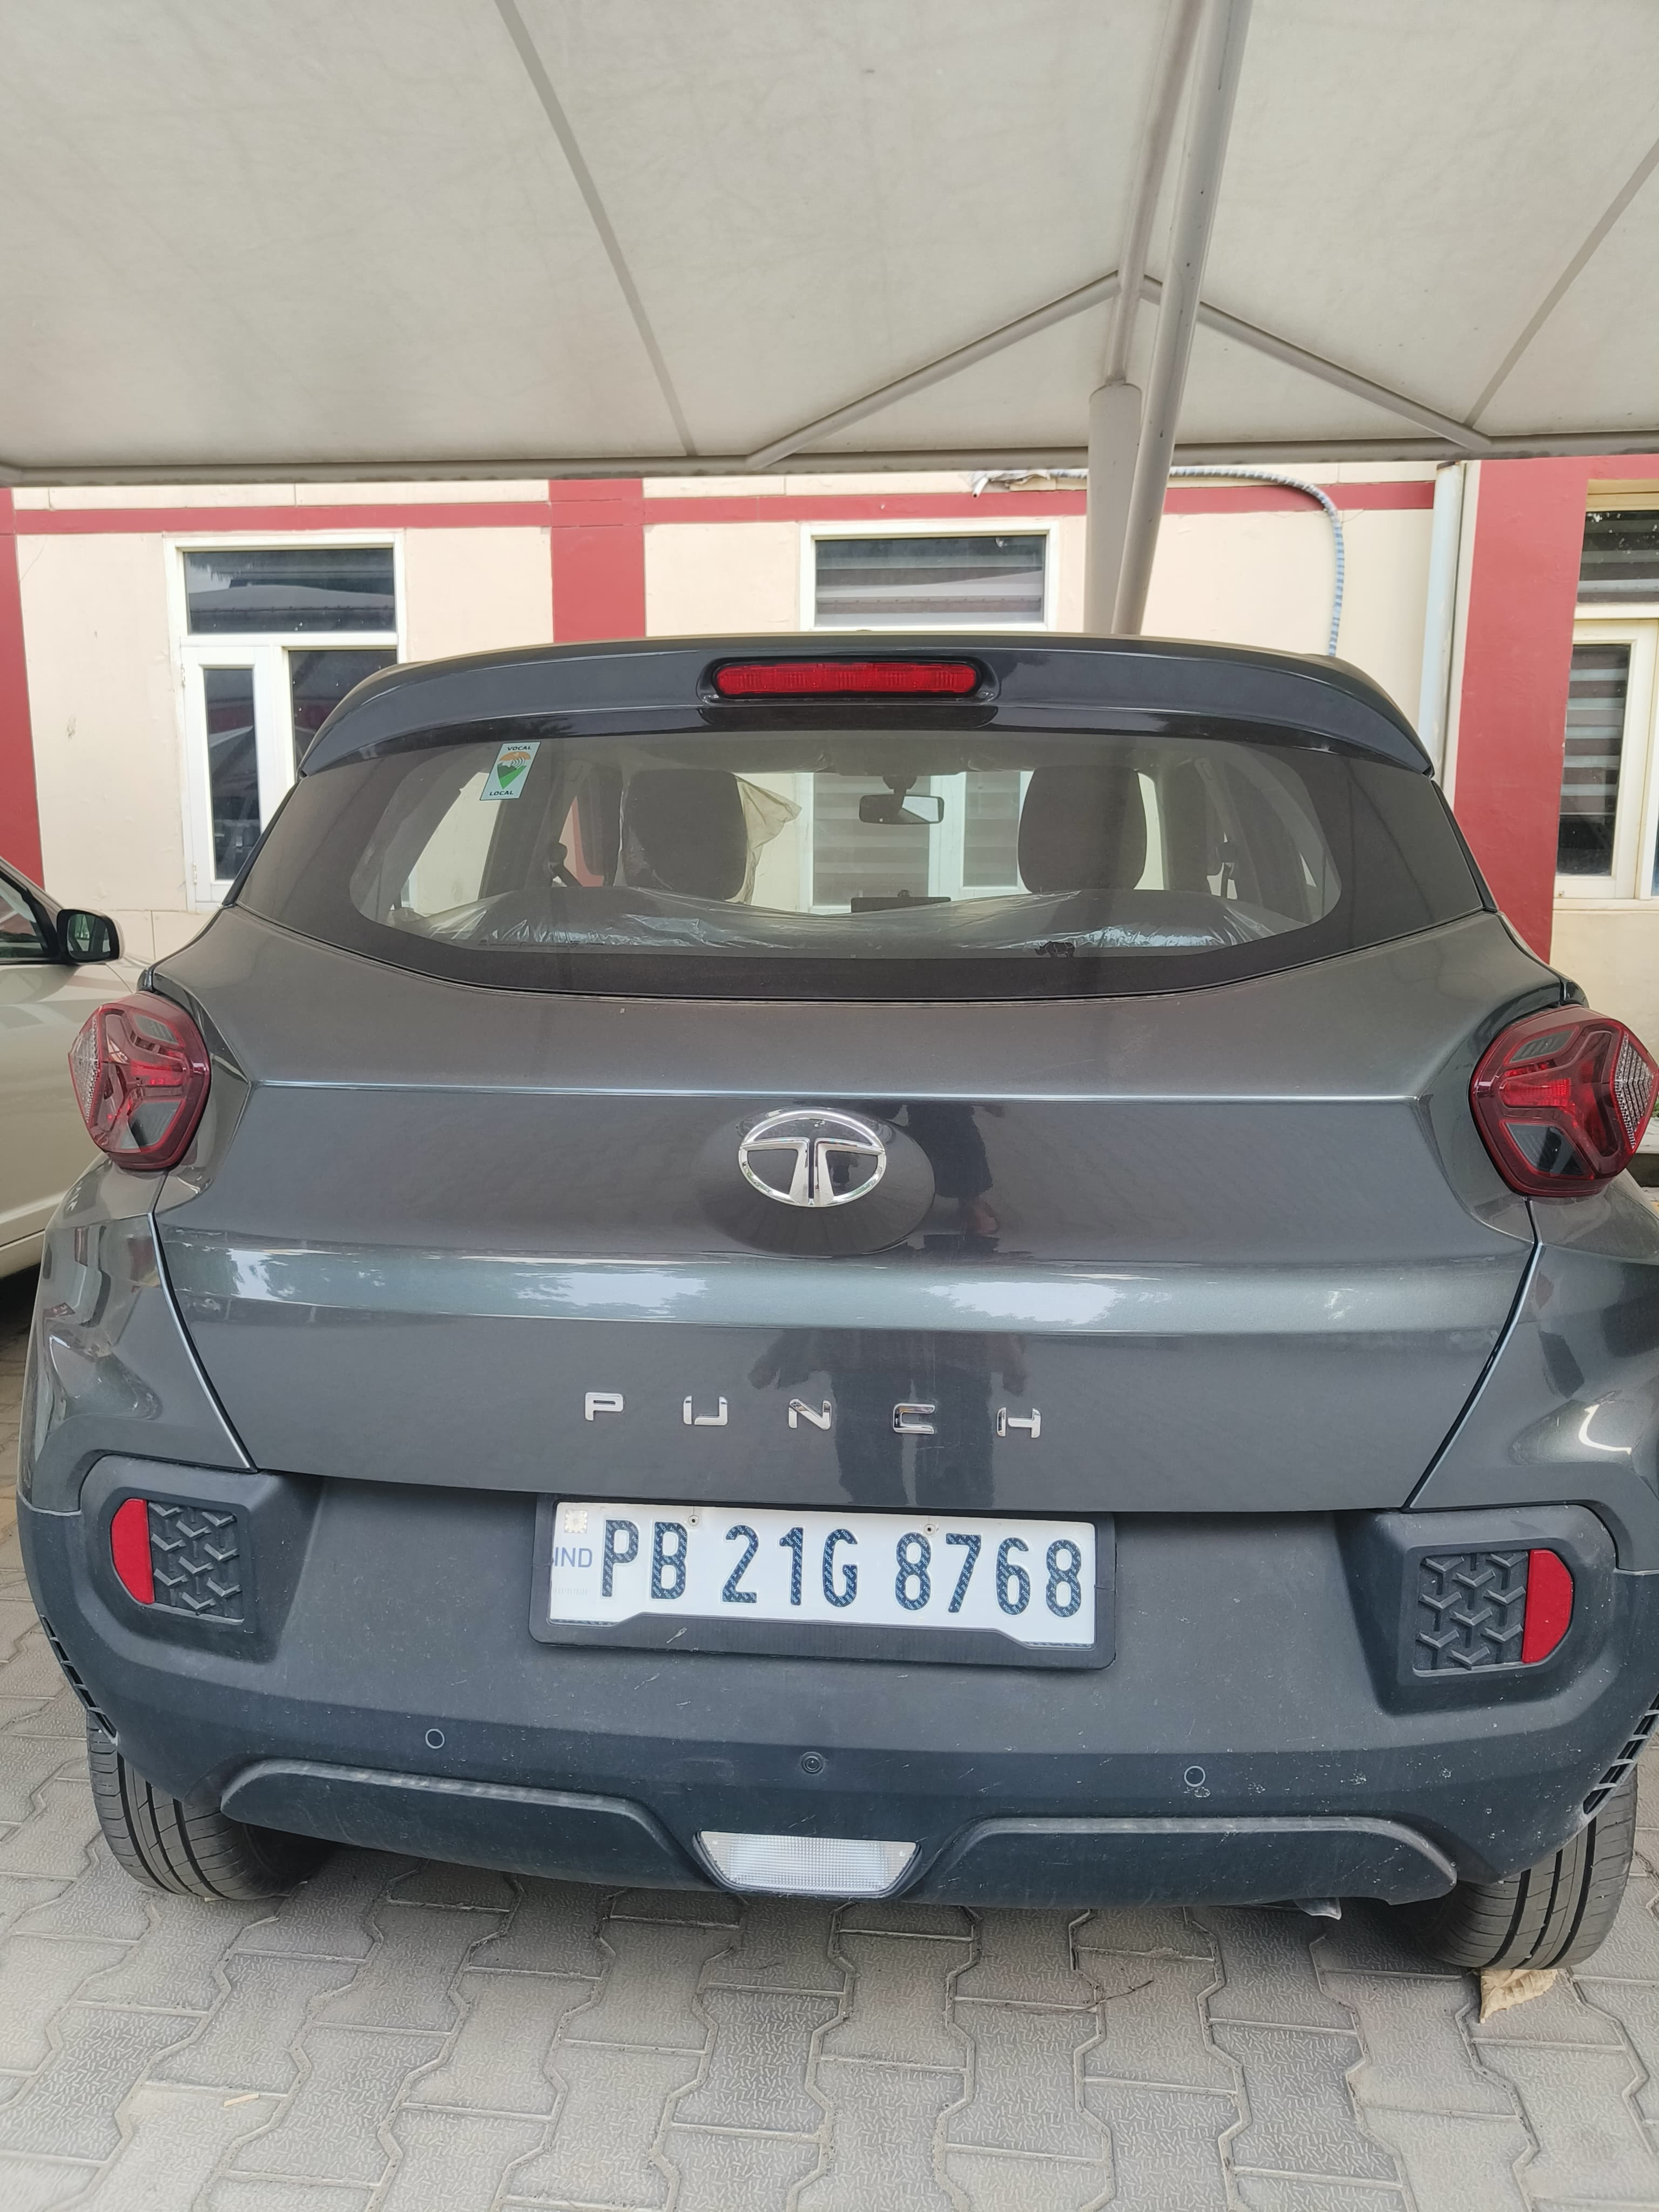license plate: (532, 1499, 1113, 1668)
